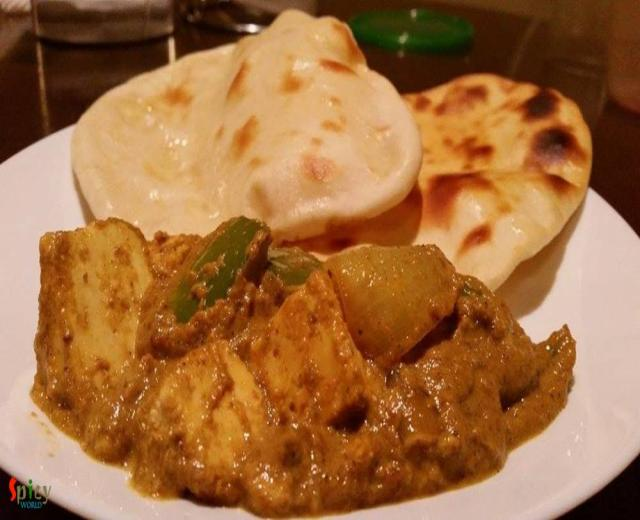kadai paneer: (0, 119, 630, 519), (2, 4, 632, 165), (0, 1, 186, 517), (212, 11, 422, 247), (400, 72, 593, 293), (0, 133, 68, 407), (32, 37, 172, 138), (0, 9, 50, 178), (31, 0, 175, 45), (179, 1, 295, 37), (407, 0, 562, 21), (229, 112, 259, 160)
